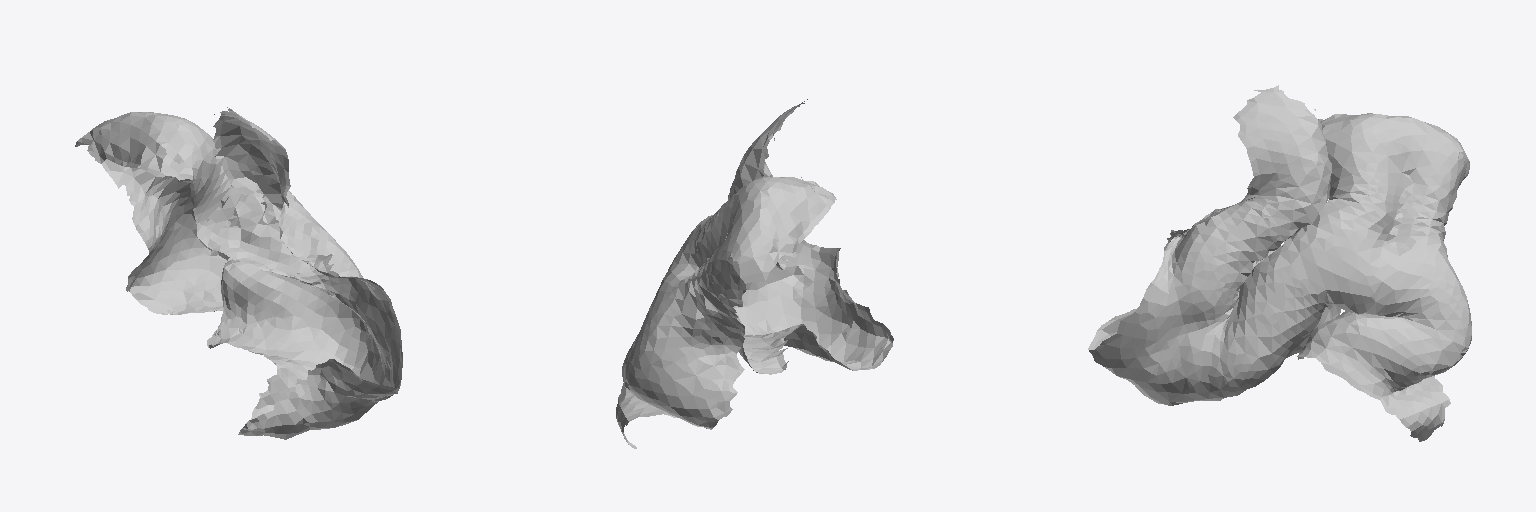
Rendered from L_frontal_inferior_triangularis-Brocas.obj.
3 renders of one model, left to right at view 1: azimuth 30°, elevation 25°; view 2: azimuth 150°, elevation 25°; view 3: azimuth 270°, elevation 25°, orthographic.
Parts seen in each view (by area): view 1: L_frontal_inferior_triangularis-Brocas_R_frontal_inferior_triang; view 2: L_frontal_inferior_triangularis-Brocas_R_frontal_inferior_triang; view 3: L_frontal_inferior_triangularis-Brocas_R_frontal_inferior_triang.
Boxes of the visible parts, x1=… form: L_frontal_inferior_triangularis-Brocas_R_frontal_inferior_triang: x1=75, y1=107, x2=402, y2=439; L_frontal_inferior_triangularis-Brocas_R_frontal_inferior_triang: x1=616, y1=99, x2=893, y2=448; L_frontal_inferior_triangularis-Brocas_R_frontal_inferior_triang: x1=1088, y1=85, x2=1471, y2=441.
Bounding box in the file's own units: 77.67 × 124 × 138.